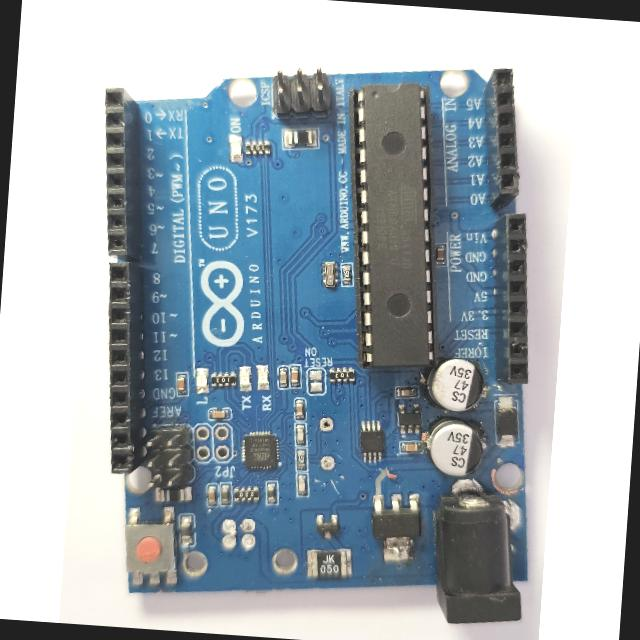missing_crystal_os: (308, 400, 346, 483)
missing_usb: (197, 511, 305, 587)
